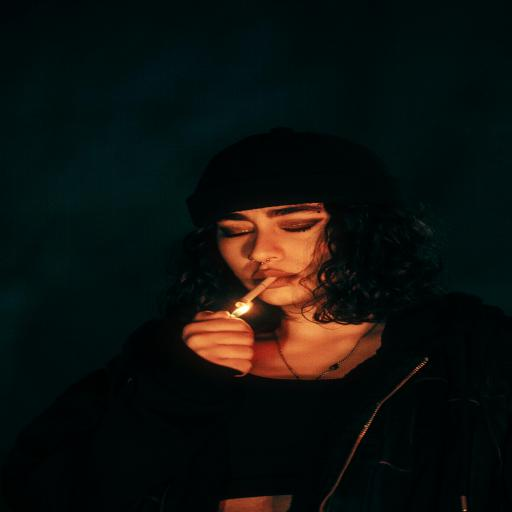terdeteksi merokok: (196, 208, 314, 325)
